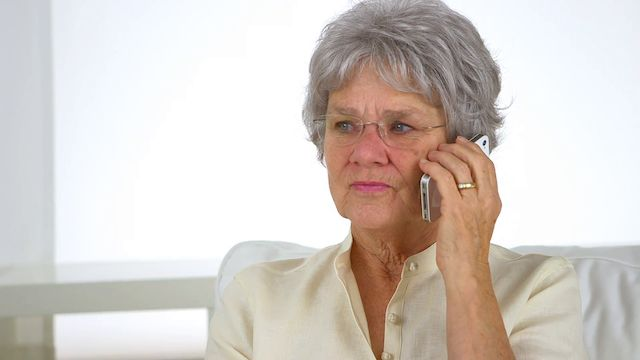phone: (413, 132, 504, 215)
talk: (320, 98, 512, 296)
